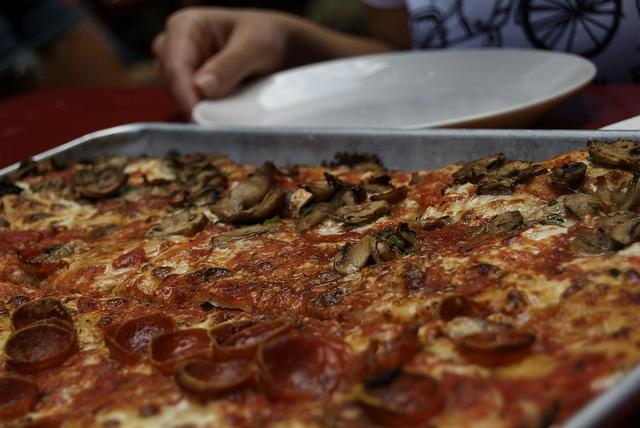mushroom: (209, 160, 290, 224), (296, 172, 368, 210), (570, 219, 638, 254), (476, 160, 536, 196), (72, 166, 128, 200), (143, 210, 210, 237), (586, 137, 638, 166), (335, 200, 392, 225), (32, 240, 88, 263), (562, 192, 606, 220), (6, 158, 51, 184), (298, 202, 336, 232), (546, 160, 586, 188), (618, 162, 640, 210), (360, 184, 407, 204), (485, 210, 524, 234), (182, 186, 220, 208), (452, 165, 488, 186), (404, 216, 450, 232), (599, 211, 632, 233), (370, 236, 394, 263), (185, 150, 216, 170), (188, 170, 215, 192), (30, 176, 66, 192), (162, 151, 188, 172), (349, 162, 386, 174), (142, 174, 173, 188), (205, 174, 228, 186), (567, 188, 595, 196), (178, 170, 195, 183), (632, 222, 640, 241)
